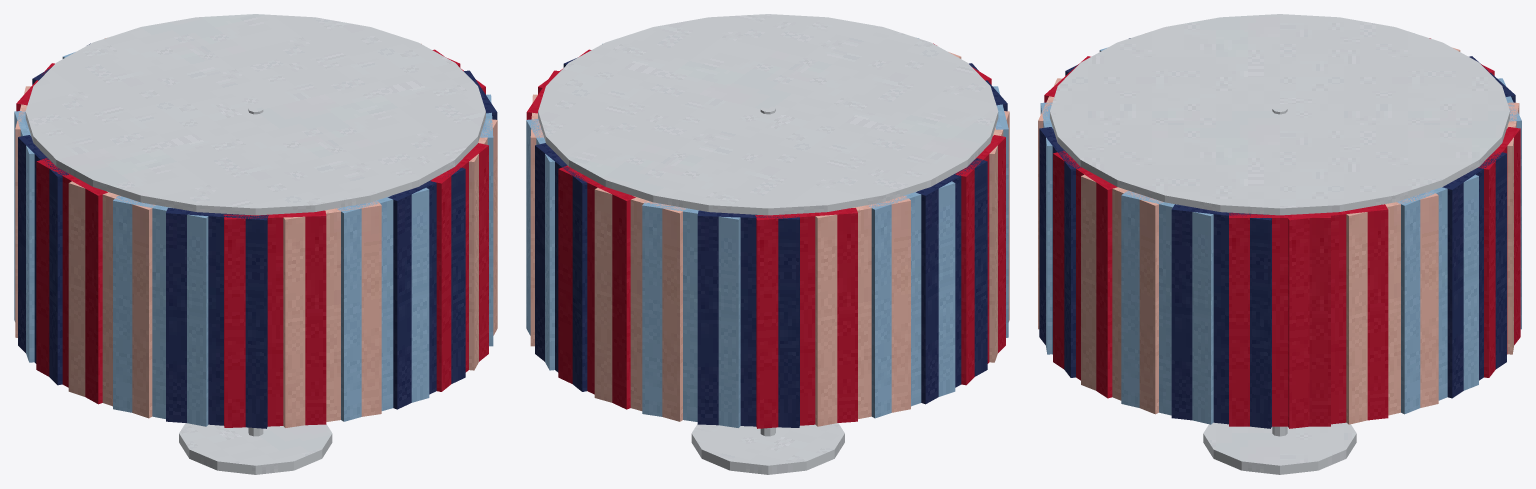
3 views of the same model, side by side, from view 1: azimuth 30°, elevation 25°; view 2: azimuth 150°, elevation 25°; view 3: azimuth 270°, elevation 25° (orthographic).
Visible parts, largest first — view 1: Decor_round_clothes_rail; view 2: Decor_round_clothes_rail; view 3: Decor_round_clothes_rail.
Part boxes in pixels (x1,y1,x2,y2): Decor_round_clothes_rail: (14,14,497,474); Decor_round_clothes_rail: (526,14,1009,474); Decor_round_clothes_rail: (1038,14,1521,474).
Bounding box in the file's own units: 1.89 × 1.44 × 1.89.
Materials: 5 (5 with a texture image).
